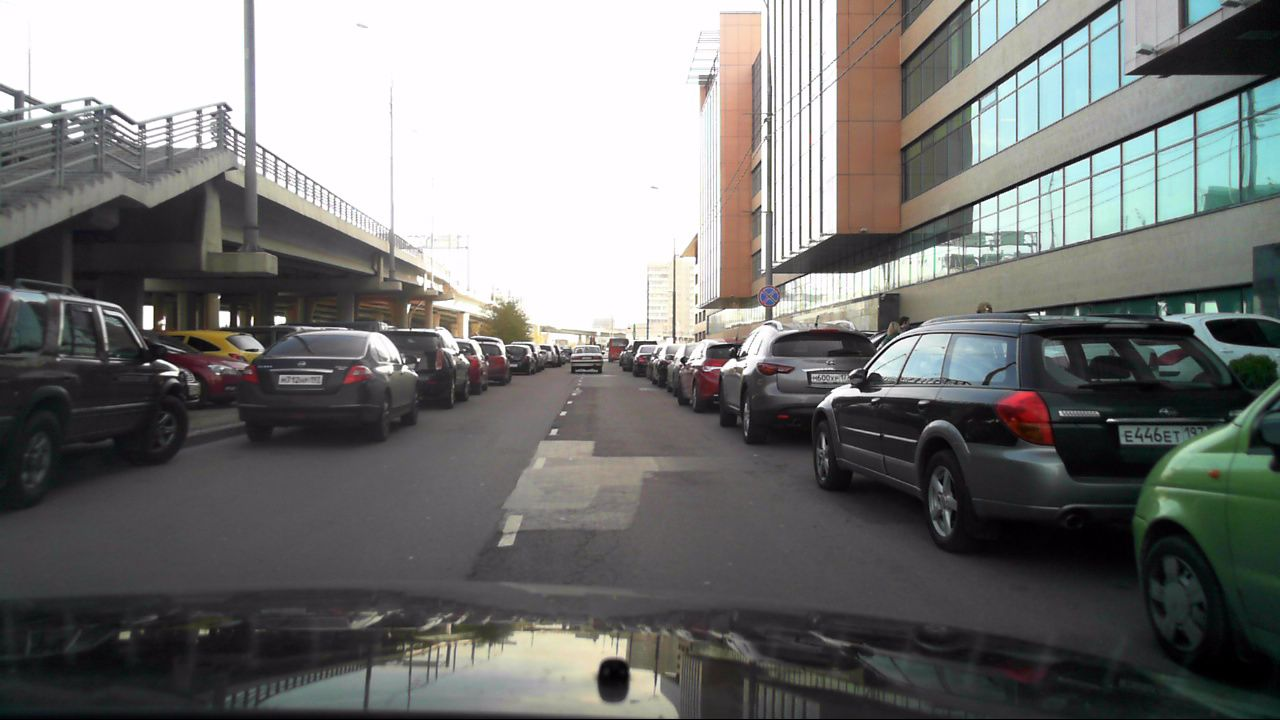No Parking: (757, 283, 780, 307)
